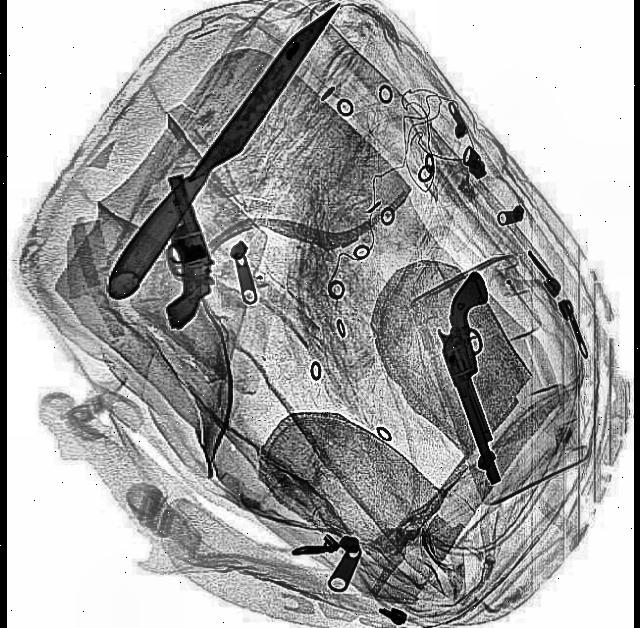Gun: (420, 270, 546, 486), (132, 171, 225, 330)
Knife: (94, 0, 343, 306)
